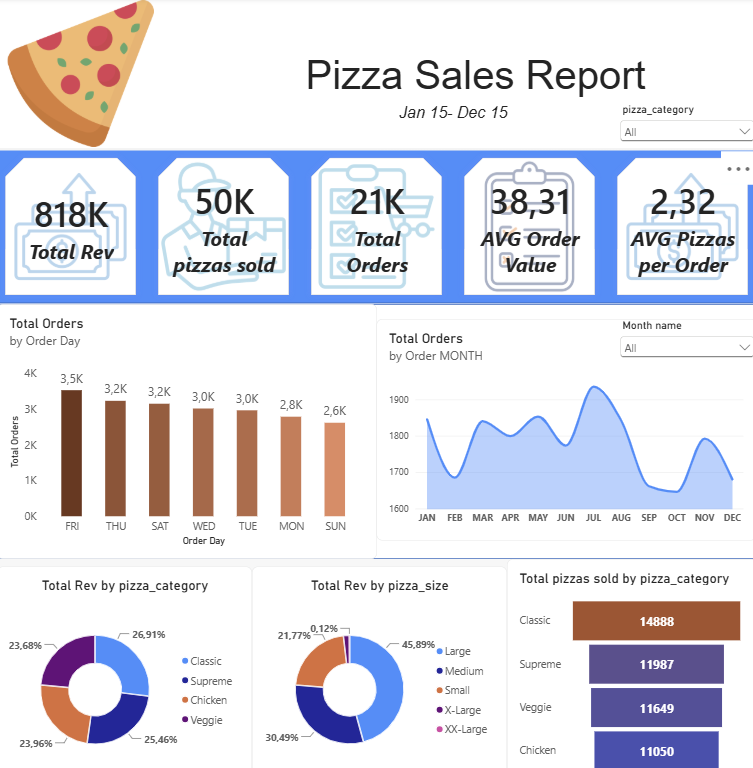

Layout of this report page (visuals, bound fields, positions):
{"tool":"powerbi","page":{"name":"Page 1","canvas":[1920,1080],"ordinal":0},"visuals":[{"type":"shape","box":[0,230,1013,205],"z":0},{"type":"cardVisual","fields":{"Data":["pizza_sales.Total Rev","pizza_sales.Total pizzas sold","pizza_sales.Total Oreders","pizza_sales.AVG Order Value","pizza_sales.AVG Pizzas per Order"]},"box":[0,230,1013.3,205],"z":1000},{"type":"textbox","box":[0,25,1013,205],"z":2000},{"type":"image","box":[0,25,223.3,205],"z":3000},{"type":"textbox","box":[1023,25,897,205],"z":4000},{"type":"textbox","box":[536.7,168.3,208.3,40],"z":5000},{"type":"shape","box":[0,435,1013.3,340],"z":6000},{"type":"clusteredColumnChart","fields":{"Category":["pizza_sales.Order Day"],"Y":["pizza_sales.Total Orders"]},"box":[0,435,506.7,340],"z":7000},{"type":"stackedAreaChart","fields":{"Category":["pizza_sales.Order MONTH"],"Y":["pizza_sales.Total Orders"]},"box":[506.7,456.7,506.7,295],"z":7001},{"type":"donutChart","fields":{"Category":["pizza_sales.pizza_category"],"Y":["pizza_sales.Total Rev"]},"box":[0,785,340,295],"z":7002},{"type":"funnel","fields":{"Category":["pizza_sales.pizza_category"],"Y":["pizza_sales.Total pizzas sold"]},"box":[680,775,333.3,305],"z":7003},{"type":"donutChart","fields":{"Category":["pizza_sales.pizza_size"],"Y":["pizza_sales.Total Rev"]},"box":[340,785,340,295],"z":7004},{"type":"slicer","fields":{"Values":["pizza_sales.pizza_category"]},"box":[825,168.3,188.3,61.7],"z":7005},{"type":"slicer","fields":{"Values":["pizza_sales.Month name"]},"box":[825,456.7,188.3,56.7],"z":7006}]}

Visuals, with their boxes on the page's 1920x1080 design canvas (x1, y1, x2, y2). These are canvas units, not pixel positions in the 753x768 screenshot, which may show the page scaled, cropped or inside an application window:
shape: (0, 230, 1013, 435)
cardVisual - pizza_sales.Total Rev x pizza_sales.Total pizzas sold: (0, 230, 1013, 435)
textbox: (0, 25, 1013, 230)
image: (0, 25, 223, 230)
textbox: (1023, 25, 1920, 230)
textbox: (537, 168, 745, 208)
shape: (0, 435, 1013, 775)
clusteredColumnChart - pizza_sales.Order Day x pizza_sales.Total Orders: (0, 435, 507, 775)
stackedAreaChart - pizza_sales.Order MONTH x pizza_sales.Total Orders: (507, 457, 1013, 752)
donutChart - pizza_sales.pizza_category x pizza_sales.Total Rev: (0, 785, 340, 1080)
funnel - pizza_sales.pizza_category x pizza_sales.Total pizzas sold: (680, 775, 1013, 1080)
donutChart - pizza_sales.pizza_size x pizza_sales.Total Rev: (340, 785, 680, 1080)
slicer - pizza_sales.pizza_category: (825, 168, 1013, 230)
slicer - pizza_sales.Month name: (825, 457, 1013, 513)
